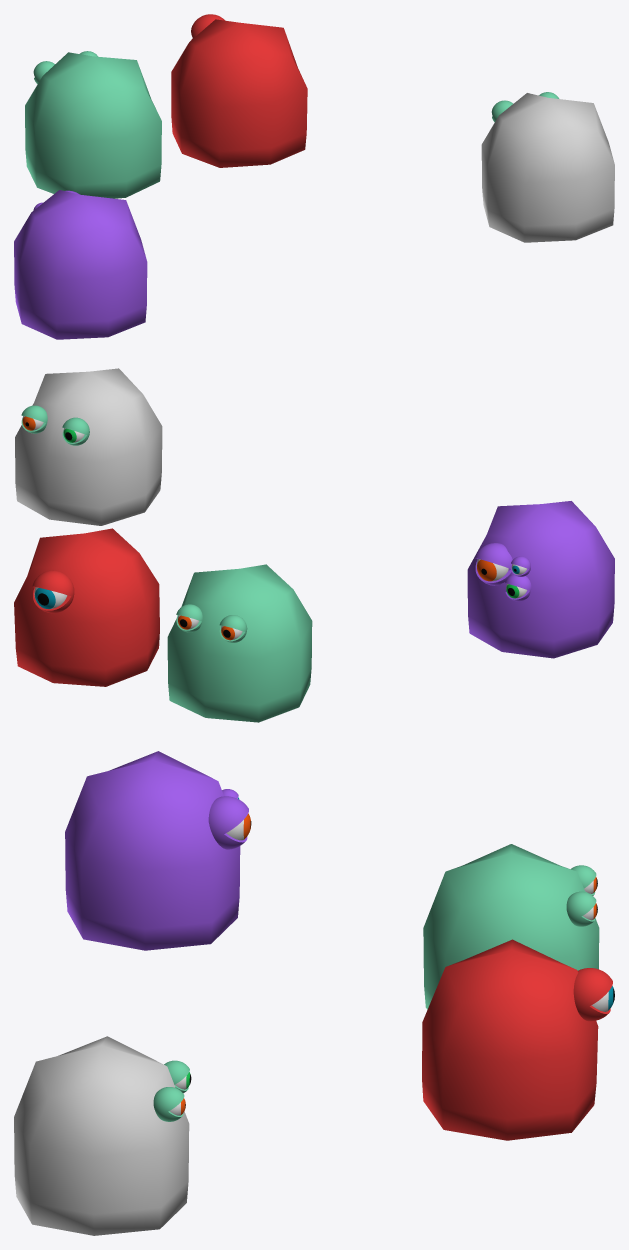
File: MIL.FBX
3 renders of one model, top to bottom at view 1: azimuth 30°, elevation 25°; view 2: azimuth 150°, elevation 25°; view 3: azimuth 270°, elevation 25°, orthographic. The views are drawn at different scales.
Visible parts, largest first — view 1: Box077, Box080, Box079, Box078; view 2: Box079, Box078, Box077, Box080, Sphere315, Sphere324, Sphere314, Sphere325; view 3: Box077, Box079, Box080, Box078, Sphere315, Sphere324, Sphere323, Sphere318.
Part boxes in pixels (x1,y1,x2,y2): Box077: (171, 19, 307, 167); Box080: (14, 190, 147, 339); Box079: (481, 93, 614, 242); Box078: (25, 52, 161, 198); Box079: (15, 368, 162, 525); Box078: (167, 564, 312, 722); Box077: (14, 528, 159, 686); Box080: (467, 501, 614, 658); Sphere315: (32, 570, 74, 613); Sphere324: (475, 543, 512, 585); Sphere314: (34, 587, 67, 609); Sphere325: (476, 559, 508, 581); Box077: (422, 939, 598, 1140); Box079: (14, 1036, 189, 1235); Box080: (65, 751, 240, 950); Box078: (423, 844, 599, 1009); Sphere315: (573, 968, 612, 1021); Sphere324: (208, 796, 248, 849); Sphere323: (153, 1087, 184, 1121); Sphere318: (566, 891, 596, 926).
Bounding box in the file's own units: 561 × 117 × 394.
